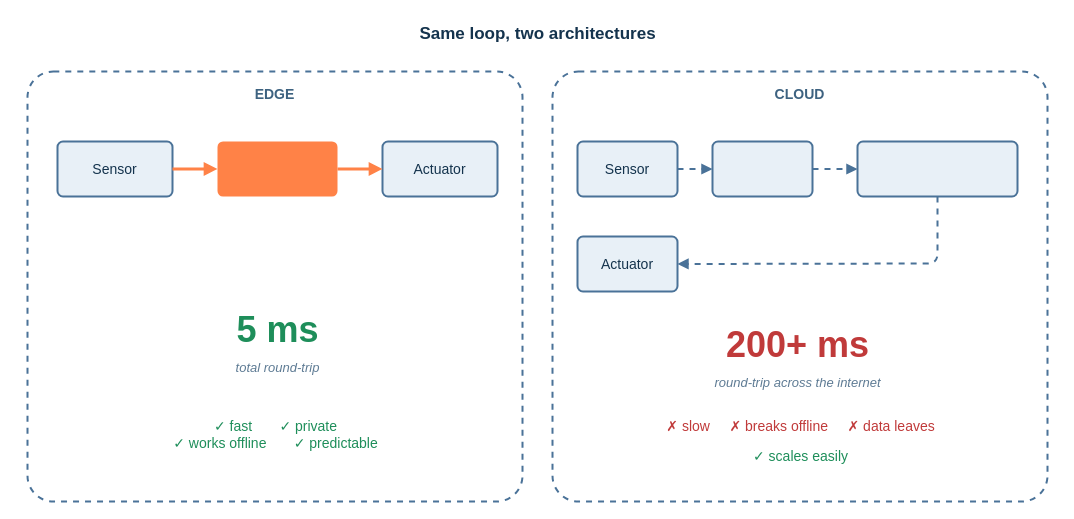
The diagram is 1074 pixels wide and 519 high, and some of its shapes have lost their labels. Each missing label, with the box of its shape:
AI edge server: (217, 141, 337, 196)
Cloud server AI: (856, 140, 1018, 197)
Router: (711, 140, 813, 197)
